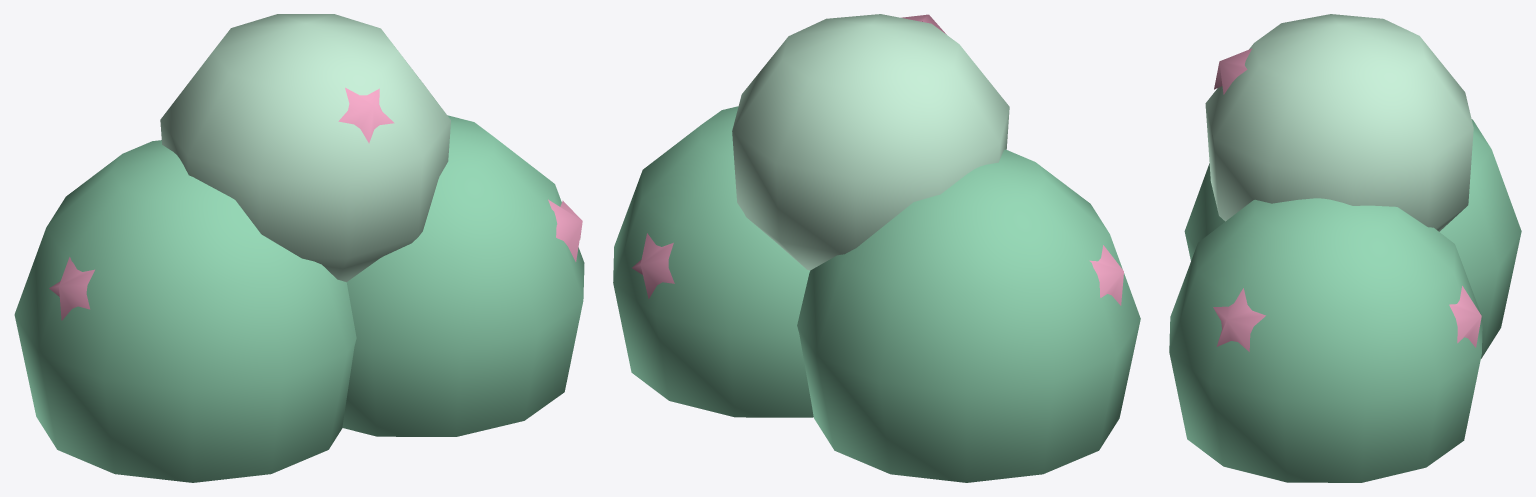
Rendered from bush.fbx.
The picture shows the model from 3 angles, left to right: view 1: azimuth 30°, elevation 25°; view 2: azimuth 150°, elevation 25°; view 3: azimuth 270°, elevation 25°; orthographic projection. The views are drawn at different scales.
Parts seen in each view (by area): view 1: bush; view 2: bush; view 3: bush.
Boxes of the visible parts, bbox=[...] form: bush: bbox=[14, 14, 584, 482]; bush: bbox=[613, 14, 1140, 482]; bush: bbox=[1169, 14, 1521, 482].
Size of the model in its own units: 1.64 by 1.15 by 1.04.
